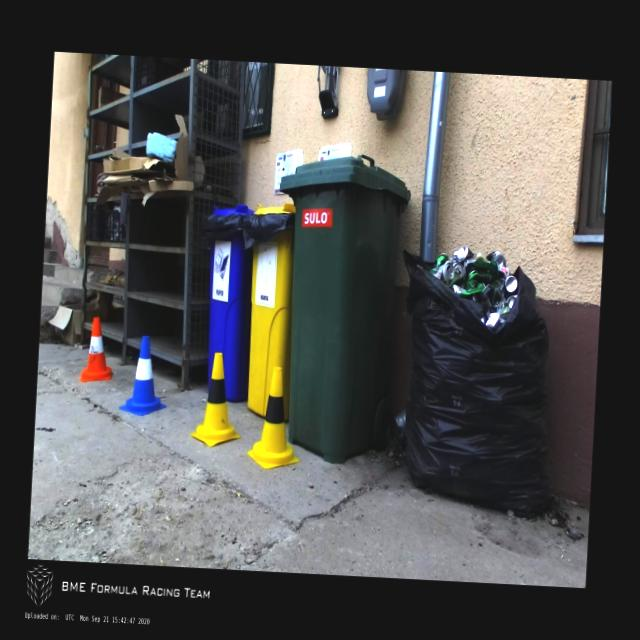blue_cone: (120, 336, 170, 416)
orange_cone: (80, 317, 116, 383)
yellow_cone: (247, 366, 304, 471), (190, 352, 244, 448)
